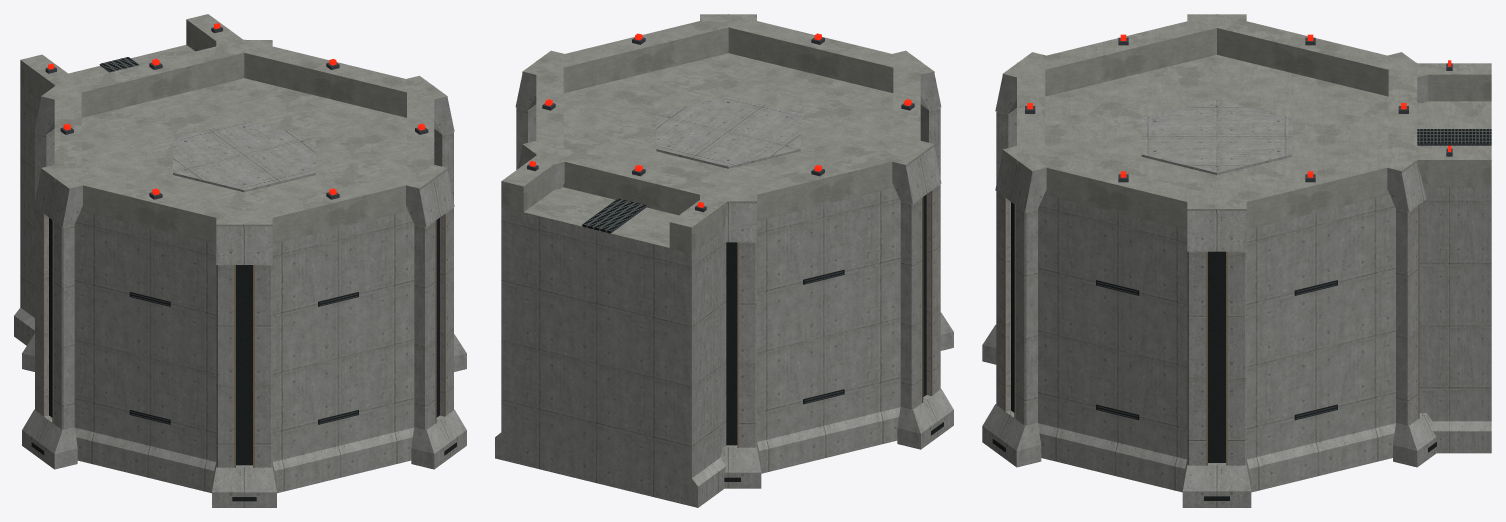
File: terminal.glb
3 views of the same model, side by side, from view 1: azimuth 30°, elevation 25°; view 2: azimuth 150°, elevation 25°; view 3: azimuth 270°, elevation 25° (orthographic). The views are drawn at different scales.
Visible parts, largest first — view 1: terminal-lod0-roof0, terminal-lod0-base0, terminal-lod0-floor0, terminal-lod0-roof0-link-n, terminal-lod0-base0-link-n, terminal-lod0-floor0-link-n; view 2: terminal-lod0-roof0, terminal-lod0-base0, terminal-lod0-floor0, terminal-lod0-base0-link-n, terminal-lod0-floor0-link-n, terminal-lod0-roof0-link-n; view 3: terminal-lod0-roof0, terminal-lod0-base0, terminal-lod0-floor0, terminal-lod0-roof0-link-n, terminal-lod0-floor0-link-n, terminal-lod0-base0-link-n.
Boxes of the visible parts, box(x1,y1,x2,y2) form: terminal-lod0-roof0: box(34, 39, 454, 267); terminal-lod0-base0: box(22, 328, 466, 507); terminal-lod0-floor0: box(35, 131, 453, 385); terminal-lod0-roof0-link-n: box(20, 14, 243, 111); terminal-lod0-base0-link-n: box(14, 217, 34, 345); terminal-lod0-floor0-link-n: box(20, 99, 38, 227); terminal-lod0-roof0: box(515, 14, 941, 244); terminal-lod0-base0: box(720, 306, 953, 488); terminal-lod0-floor0: box(516, 107, 940, 364); terminal-lod0-base0-link-n: box(495, 340, 726, 507); terminal-lod0-floor0-link-n: box(501, 221, 726, 386); terminal-lod0-roof0-link-n: box(501, 152, 731, 267); terminal-lod0-roof0: box(995, 14, 1430, 254); terminal-lod0-base0: box(982, 318, 1436, 507); terminal-lod0-floor0: box(996, 110, 1419, 378); terminal-lod0-roof0-link-n: box(1407, 60, 1491, 201); terminal-lod0-floor0-link-n: box(1419, 201, 1491, 325); terminal-lod0-base0-link-n: box(1419, 326, 1491, 453).
Size of what is drawn, in the model's own units: 65.96 by 43.07 by 66.76.
Materials: 8 (7 with a texture image).
